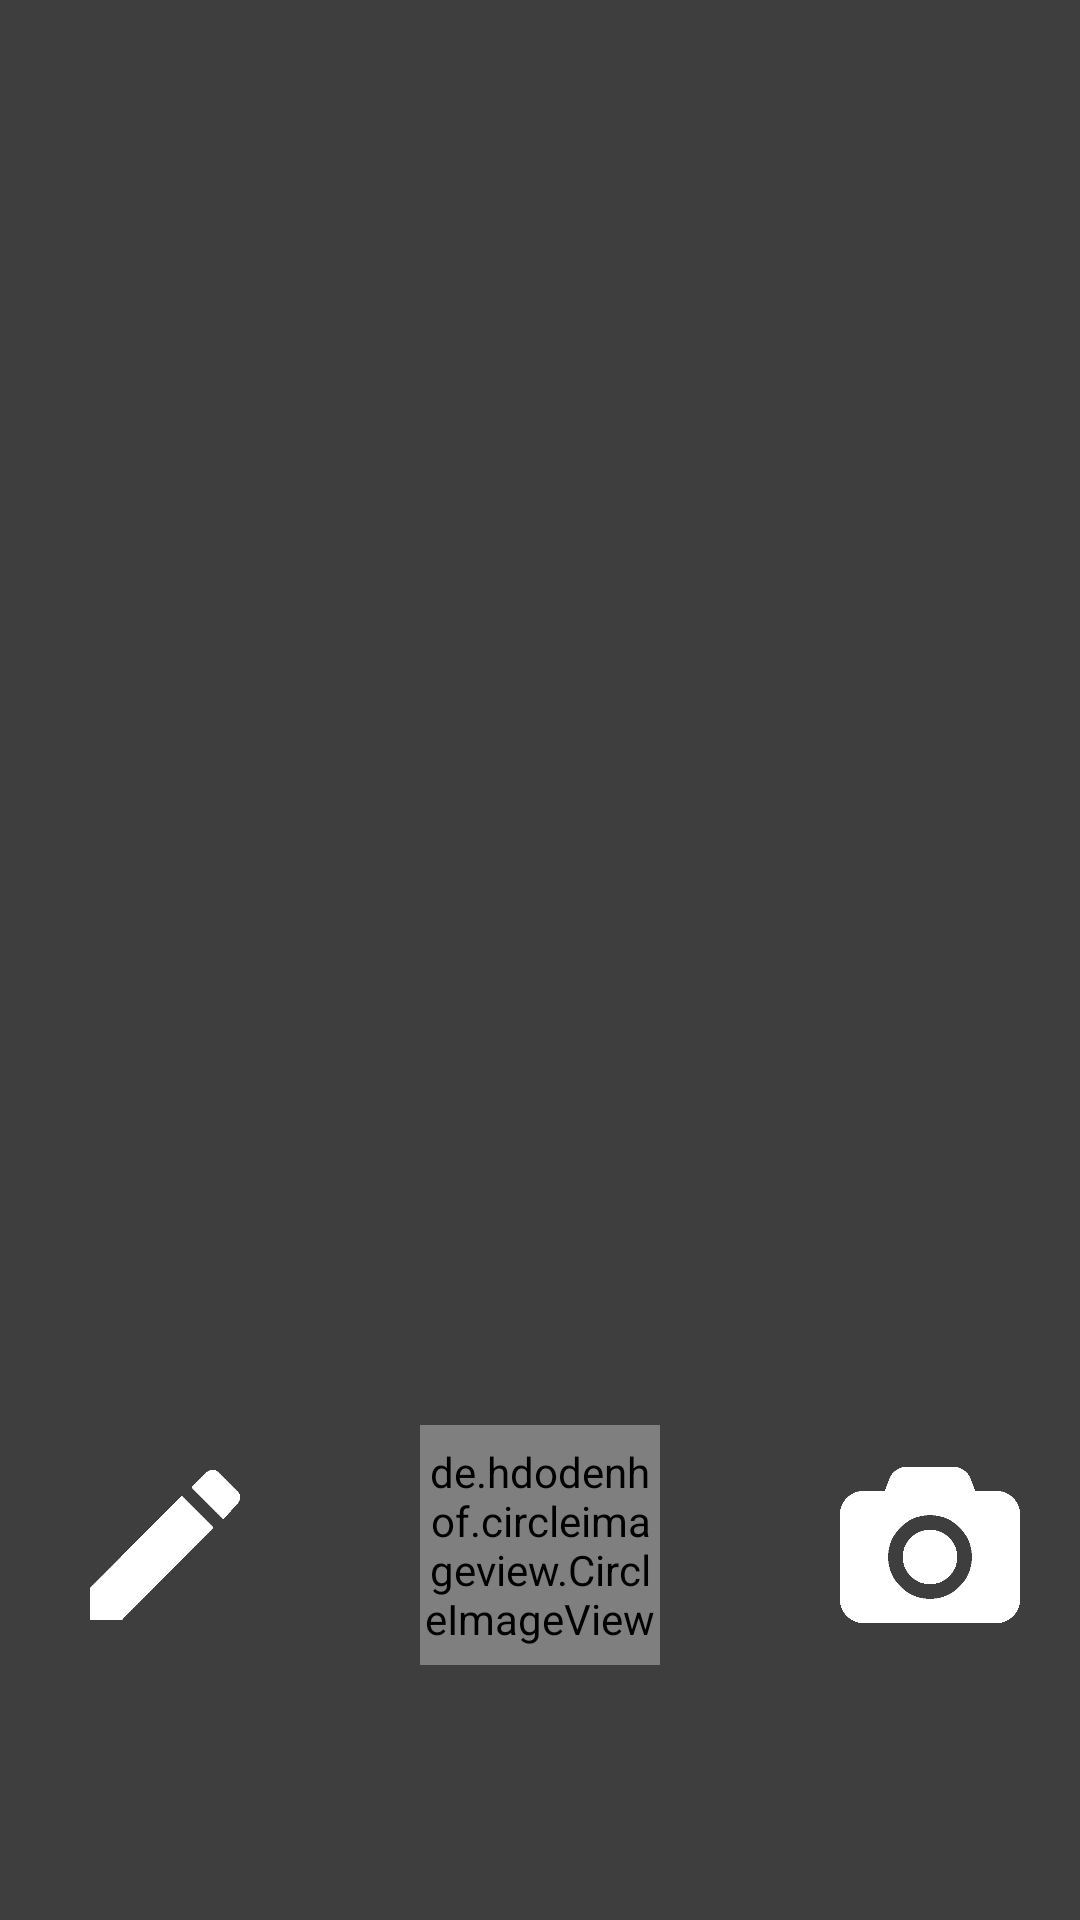

Point at icon controls on the screen. Image size 1080px x 1920px, points as (x,y).
camera: (930,1545)
pencil: (165,1545)
